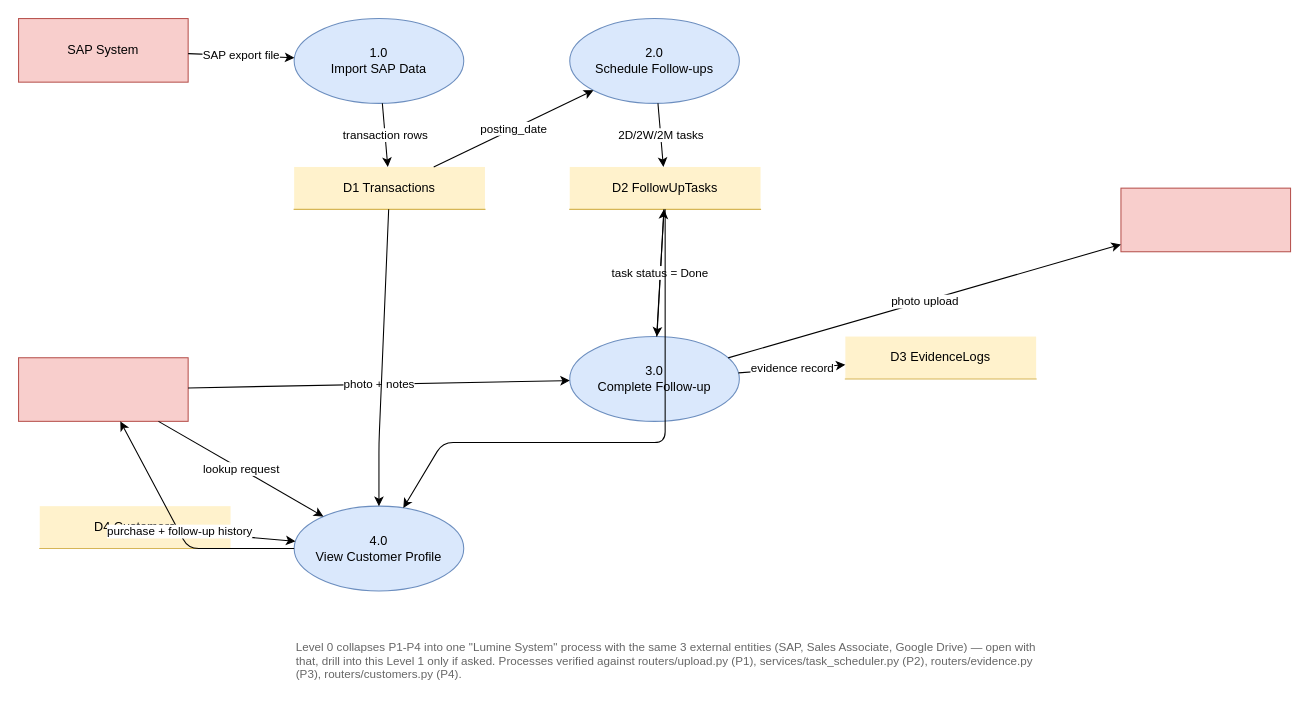
Image size: 1309x715. Some labels were removed from this diagram. The centre of each missing label's shape, as x and y in pixels:
Google Drive: (x=1205, y=219)
Sales Associate: (x=102, y=389)
